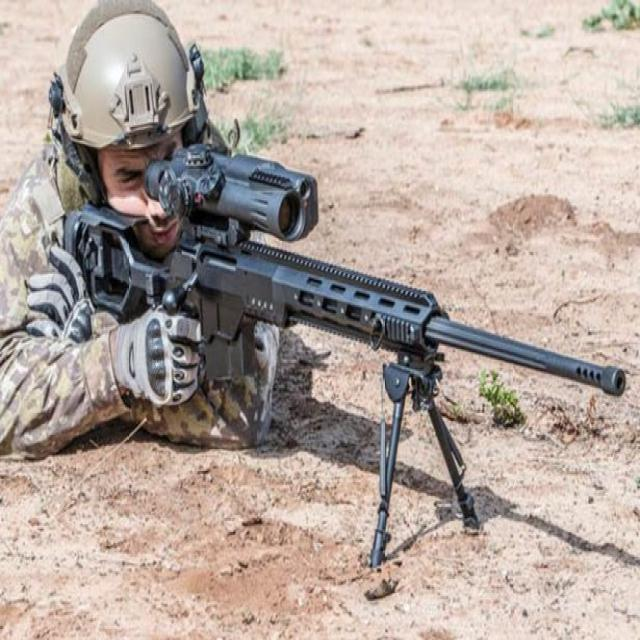rifle: (50, 140, 634, 432)
